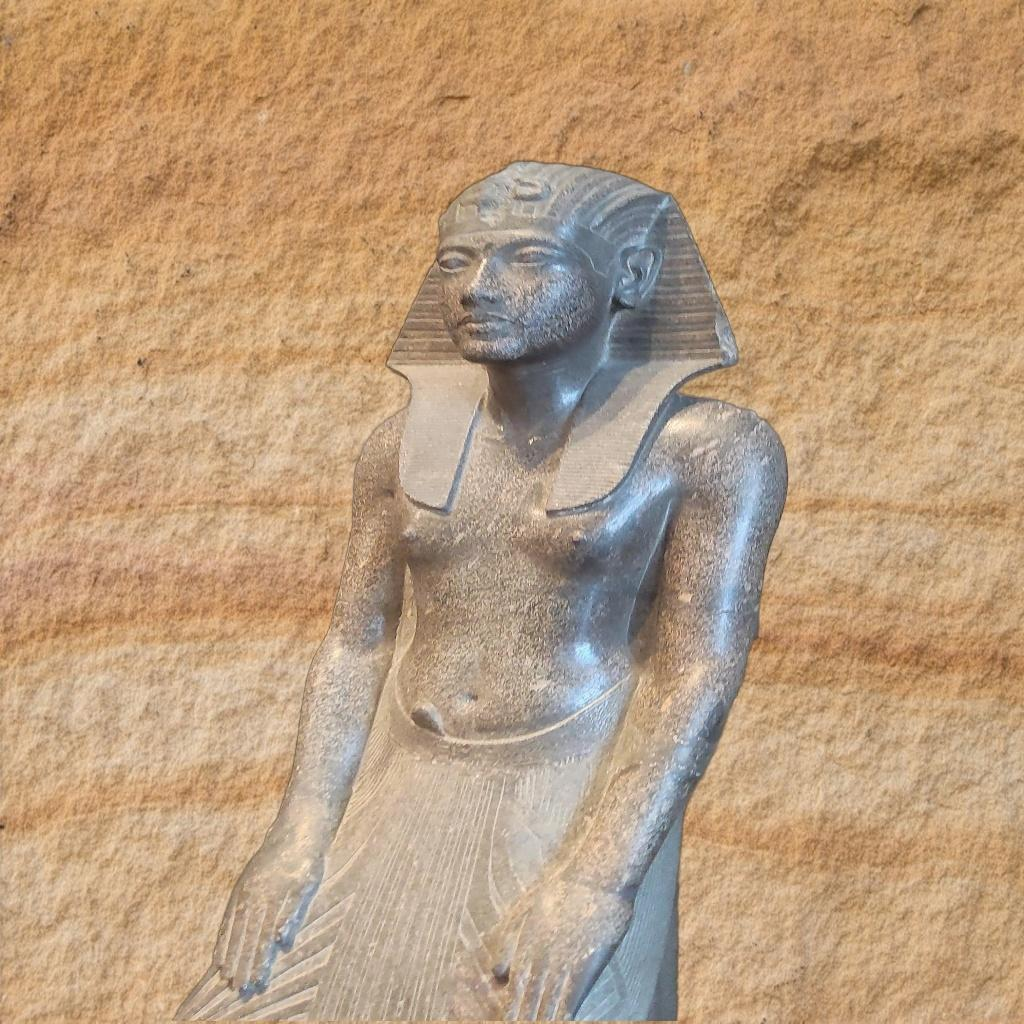Granite Statue of Tutankhamun: (168, 155, 791, 1021)
